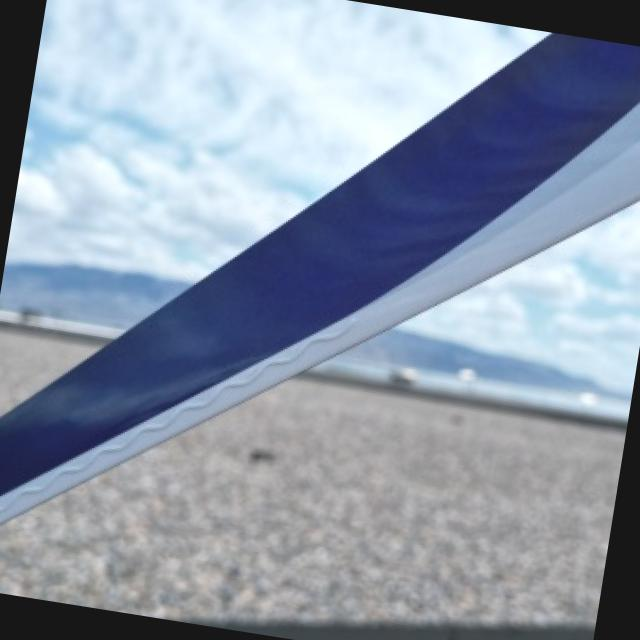healthy: (0, 381, 626, 621)
